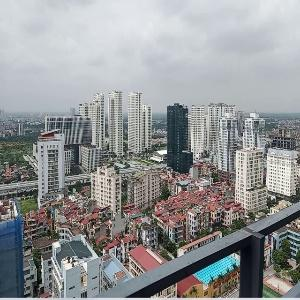drone: (189, 199, 242, 252)
